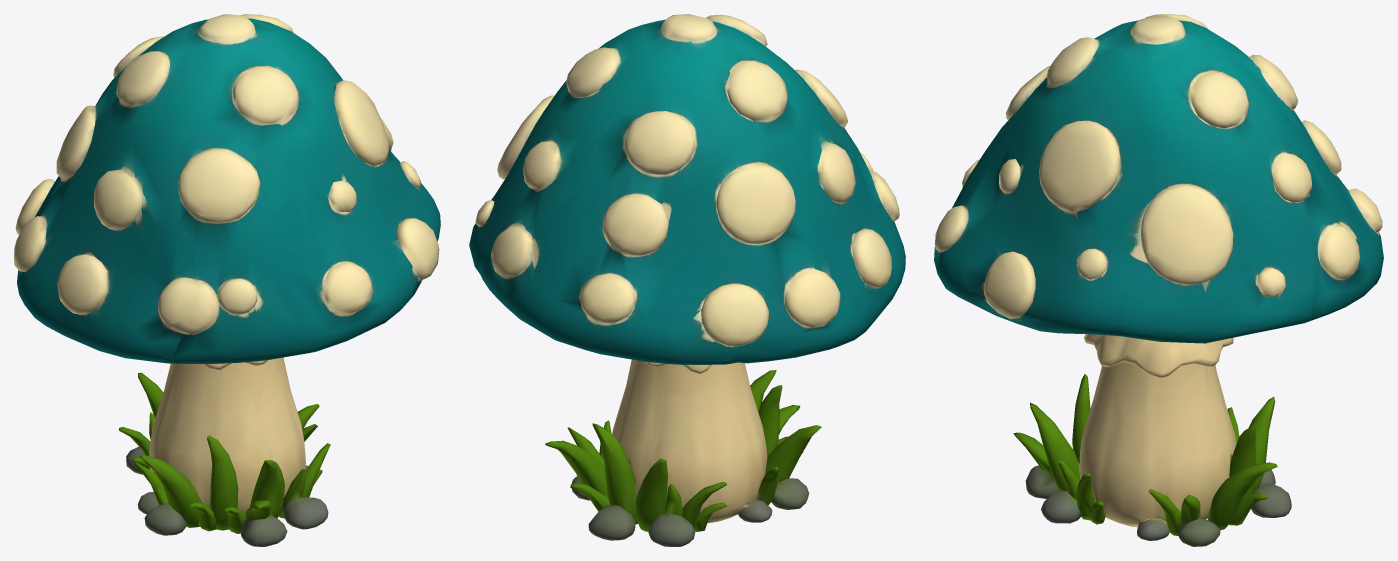
Rendered from shroom_teal.glb.
3 renders of one model, left to right at view 1: azimuth 30°, elevation 25°; view 2: azimuth 150°, elevation 25°; view 3: azimuth 270°, elevation 25°, orthographic.
Parts seen in each view (by area): view 1: tripo_node_09c8c3e2-41bb-40d8-acca-1e58ffd311c4; view 2: tripo_node_09c8c3e2-41bb-40d8-acca-1e58ffd311c4; view 3: tripo_node_09c8c3e2-41bb-40d8-acca-1e58ffd311c4.
Boxes of the visible parts, x1=… form: tripo_node_09c8c3e2-41bb-40d8-acca-1e58ffd311c4: x1=14, y1=14, x2=440, y2=546; tripo_node_09c8c3e2-41bb-40d8-acca-1e58ffd311c4: x1=469, y1=14, x2=905, y2=546; tripo_node_09c8c3e2-41bb-40d8-acca-1e58ffd311c4: x1=934, y1=14, x2=1383, y2=546.
Size of the model in its own units: 1.29 by 1.6 by 1.36.
Materials: 1 (1 with a texture image).
